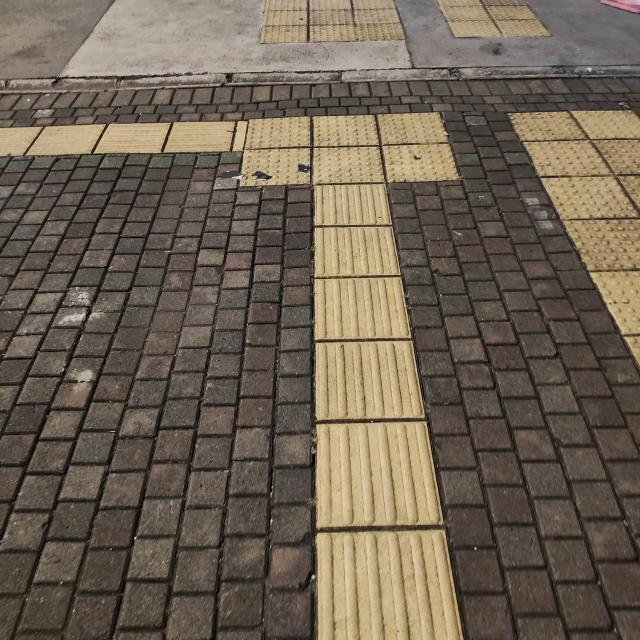kiri: (175, 96, 407, 220)
